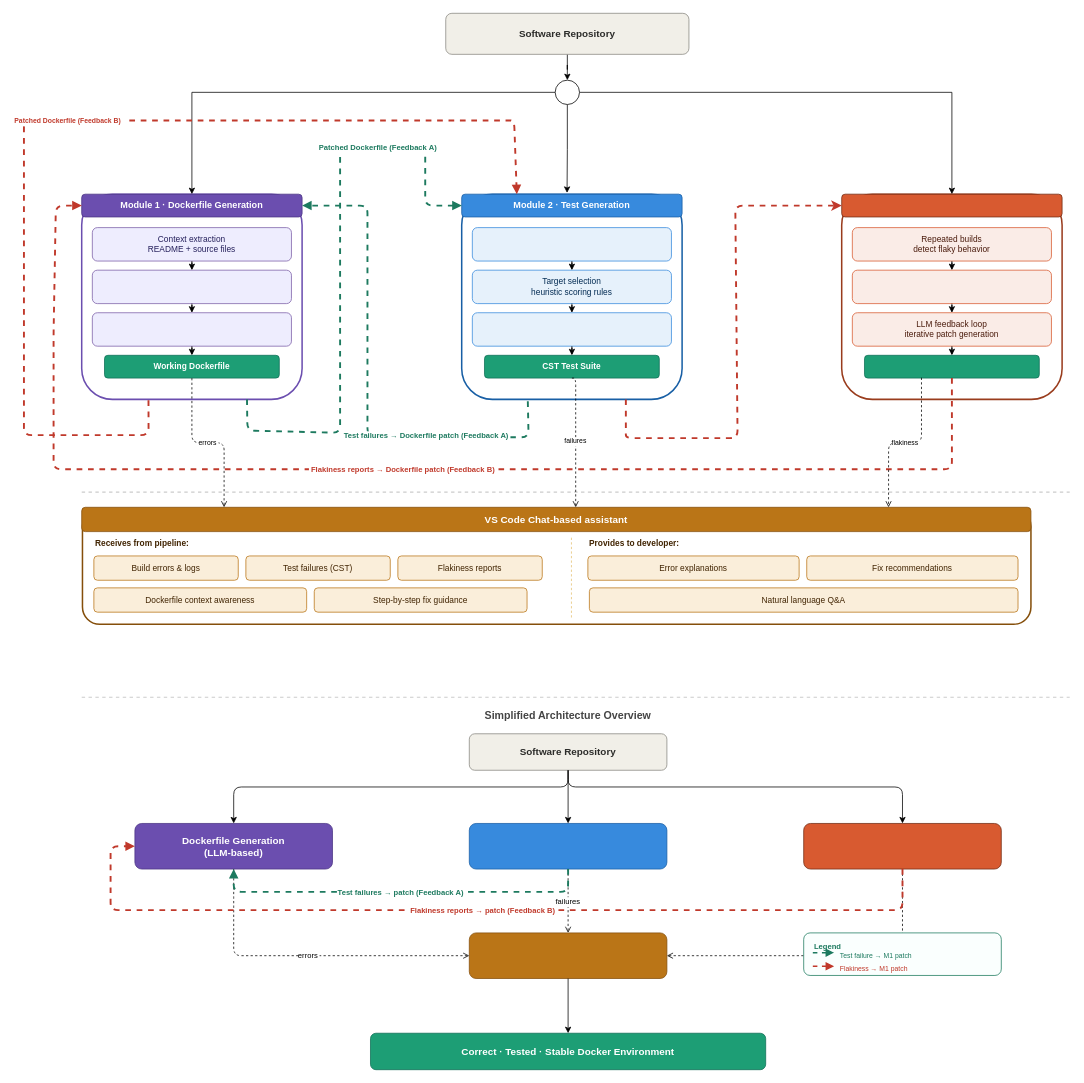
This 1084x1083 diagram has some shape labels left out. Here are the shapes that lost their labels. From the top down, the centre of each, then its label:
At (951,205): "Module 3 · Flakiness Detection & Repair".
At (571,244): "Layer analysis extract files and metadata".
At (191,286): "LLM generation initial Dockerfile".
At (951,286): "RAG · similarity search retrieve similar repairs".
At (191,329): "Build · patch loop iterative refinement".
At (571,329): "CST test generation commandTests · fileExistenceTests".
At (951,366): "Repaired Dockerfile".
At (568,846): "Test Generation (Layer-analysis-based)".
At (902,846): "Flakiness Detection & Repair (RAG-based)".
At (568,955): "Chat Assistant (LLM-powered)".
